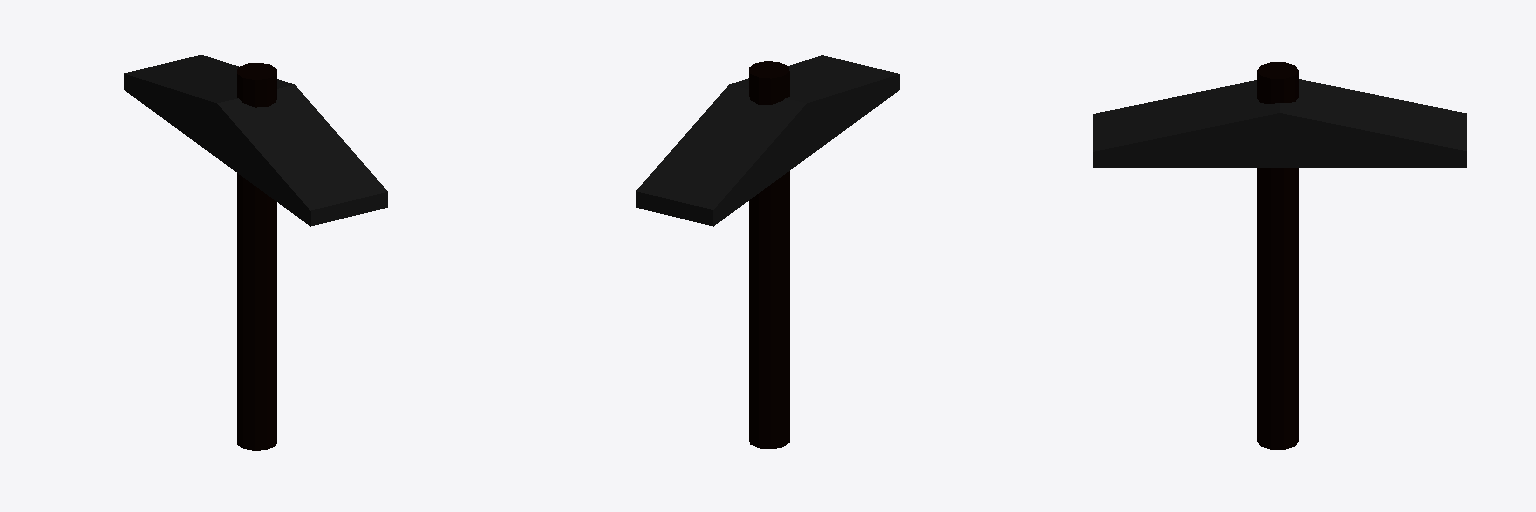
The model's file is Pickaxe.obj.
The picture shows the model from 3 angles: view 1: azimuth 30°, elevation 25°; view 2: azimuth 150°, elevation 25°; view 3: azimuth 270°, elevation 25°; orthographic projection.
Visible parts, largest first — view 1: Pickaxe_Cube.002_Spear_Head, Pickaxe_Cube.002_Spear_Wood; view 2: Pickaxe_Cube.002_Spear_Head, Pickaxe_Cube.002_Spear_Wood; view 3: Pickaxe_Cube.002_Spear_Head, Pickaxe_Cube.002_Spear_Wood.
Part boxes in pixels (x1,y1,x2,y2): Pickaxe_Cube.002_Spear_Head: (124,55,387,226); Pickaxe_Cube.002_Spear_Wood: (237,63,276,450); Pickaxe_Cube.002_Spear_Head: (636,55,899,226); Pickaxe_Cube.002_Spear_Wood: (749,61,789,448); Pickaxe_Cube.002_Spear_Head: (1093,79,1466,167); Pickaxe_Cube.002_Spear_Wood: (1257,62,1298,449).
Bounding box in the file's own units: 0.471 × 2.15 × 1.96.